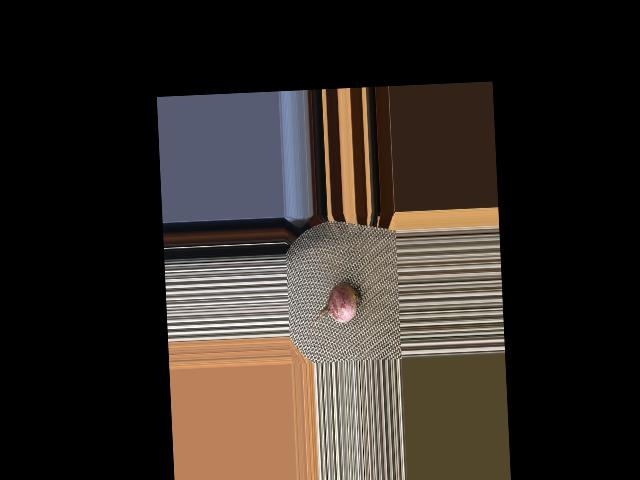beet: (305, 281, 364, 341)
